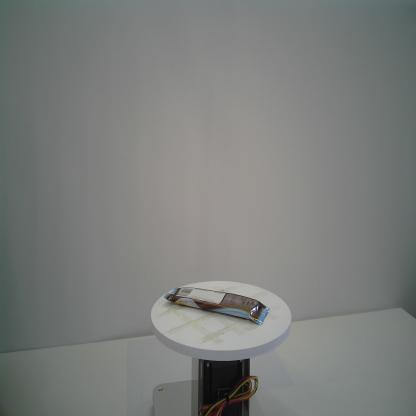Chocolate: (164, 286, 270, 326)
